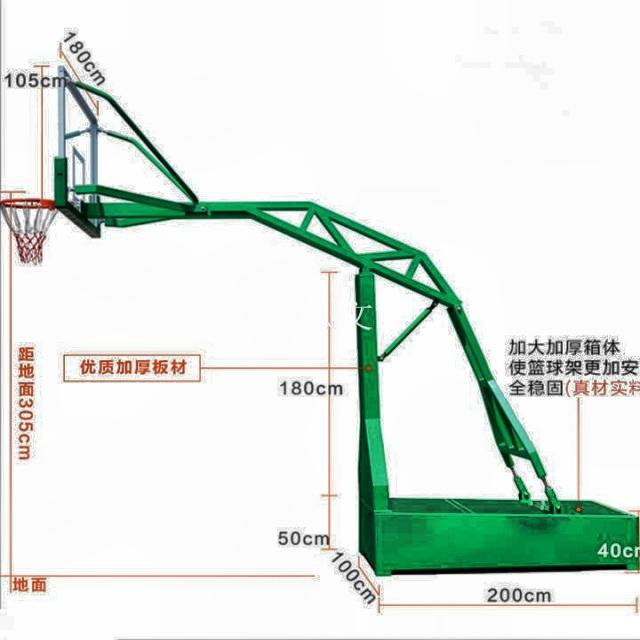rim: (0, 198, 56, 264)
